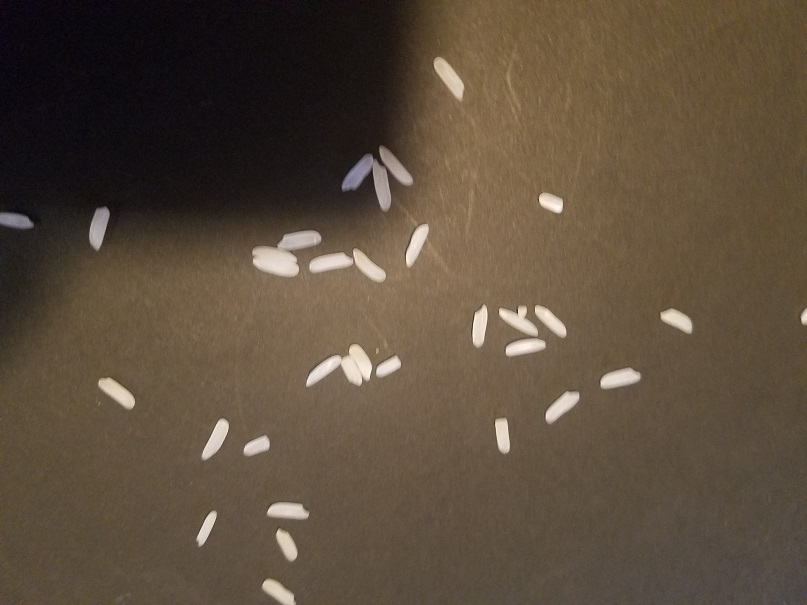egg: (430, 53, 468, 104), (377, 140, 413, 190), (402, 221, 433, 270), (339, 153, 375, 193), (96, 375, 135, 410), (498, 306, 541, 337), (542, 389, 581, 423), (353, 246, 387, 284), (306, 249, 353, 275), (658, 304, 695, 337), (371, 160, 394, 213), (86, 205, 110, 255), (306, 351, 342, 384), (201, 417, 229, 459), (251, 256, 301, 279), (598, 366, 642, 392), (536, 304, 569, 337), (260, 575, 295, 605), (350, 341, 375, 381), (248, 244, 300, 263), (265, 500, 310, 521), (277, 229, 323, 249), (506, 337, 549, 358), (195, 508, 218, 547), (274, 527, 299, 561), (340, 354, 365, 388), (470, 305, 488, 349), (374, 351, 403, 377), (494, 415, 512, 456), (1, 213, 38, 232), (242, 434, 271, 456), (538, 192, 566, 214), (516, 303, 528, 317)
